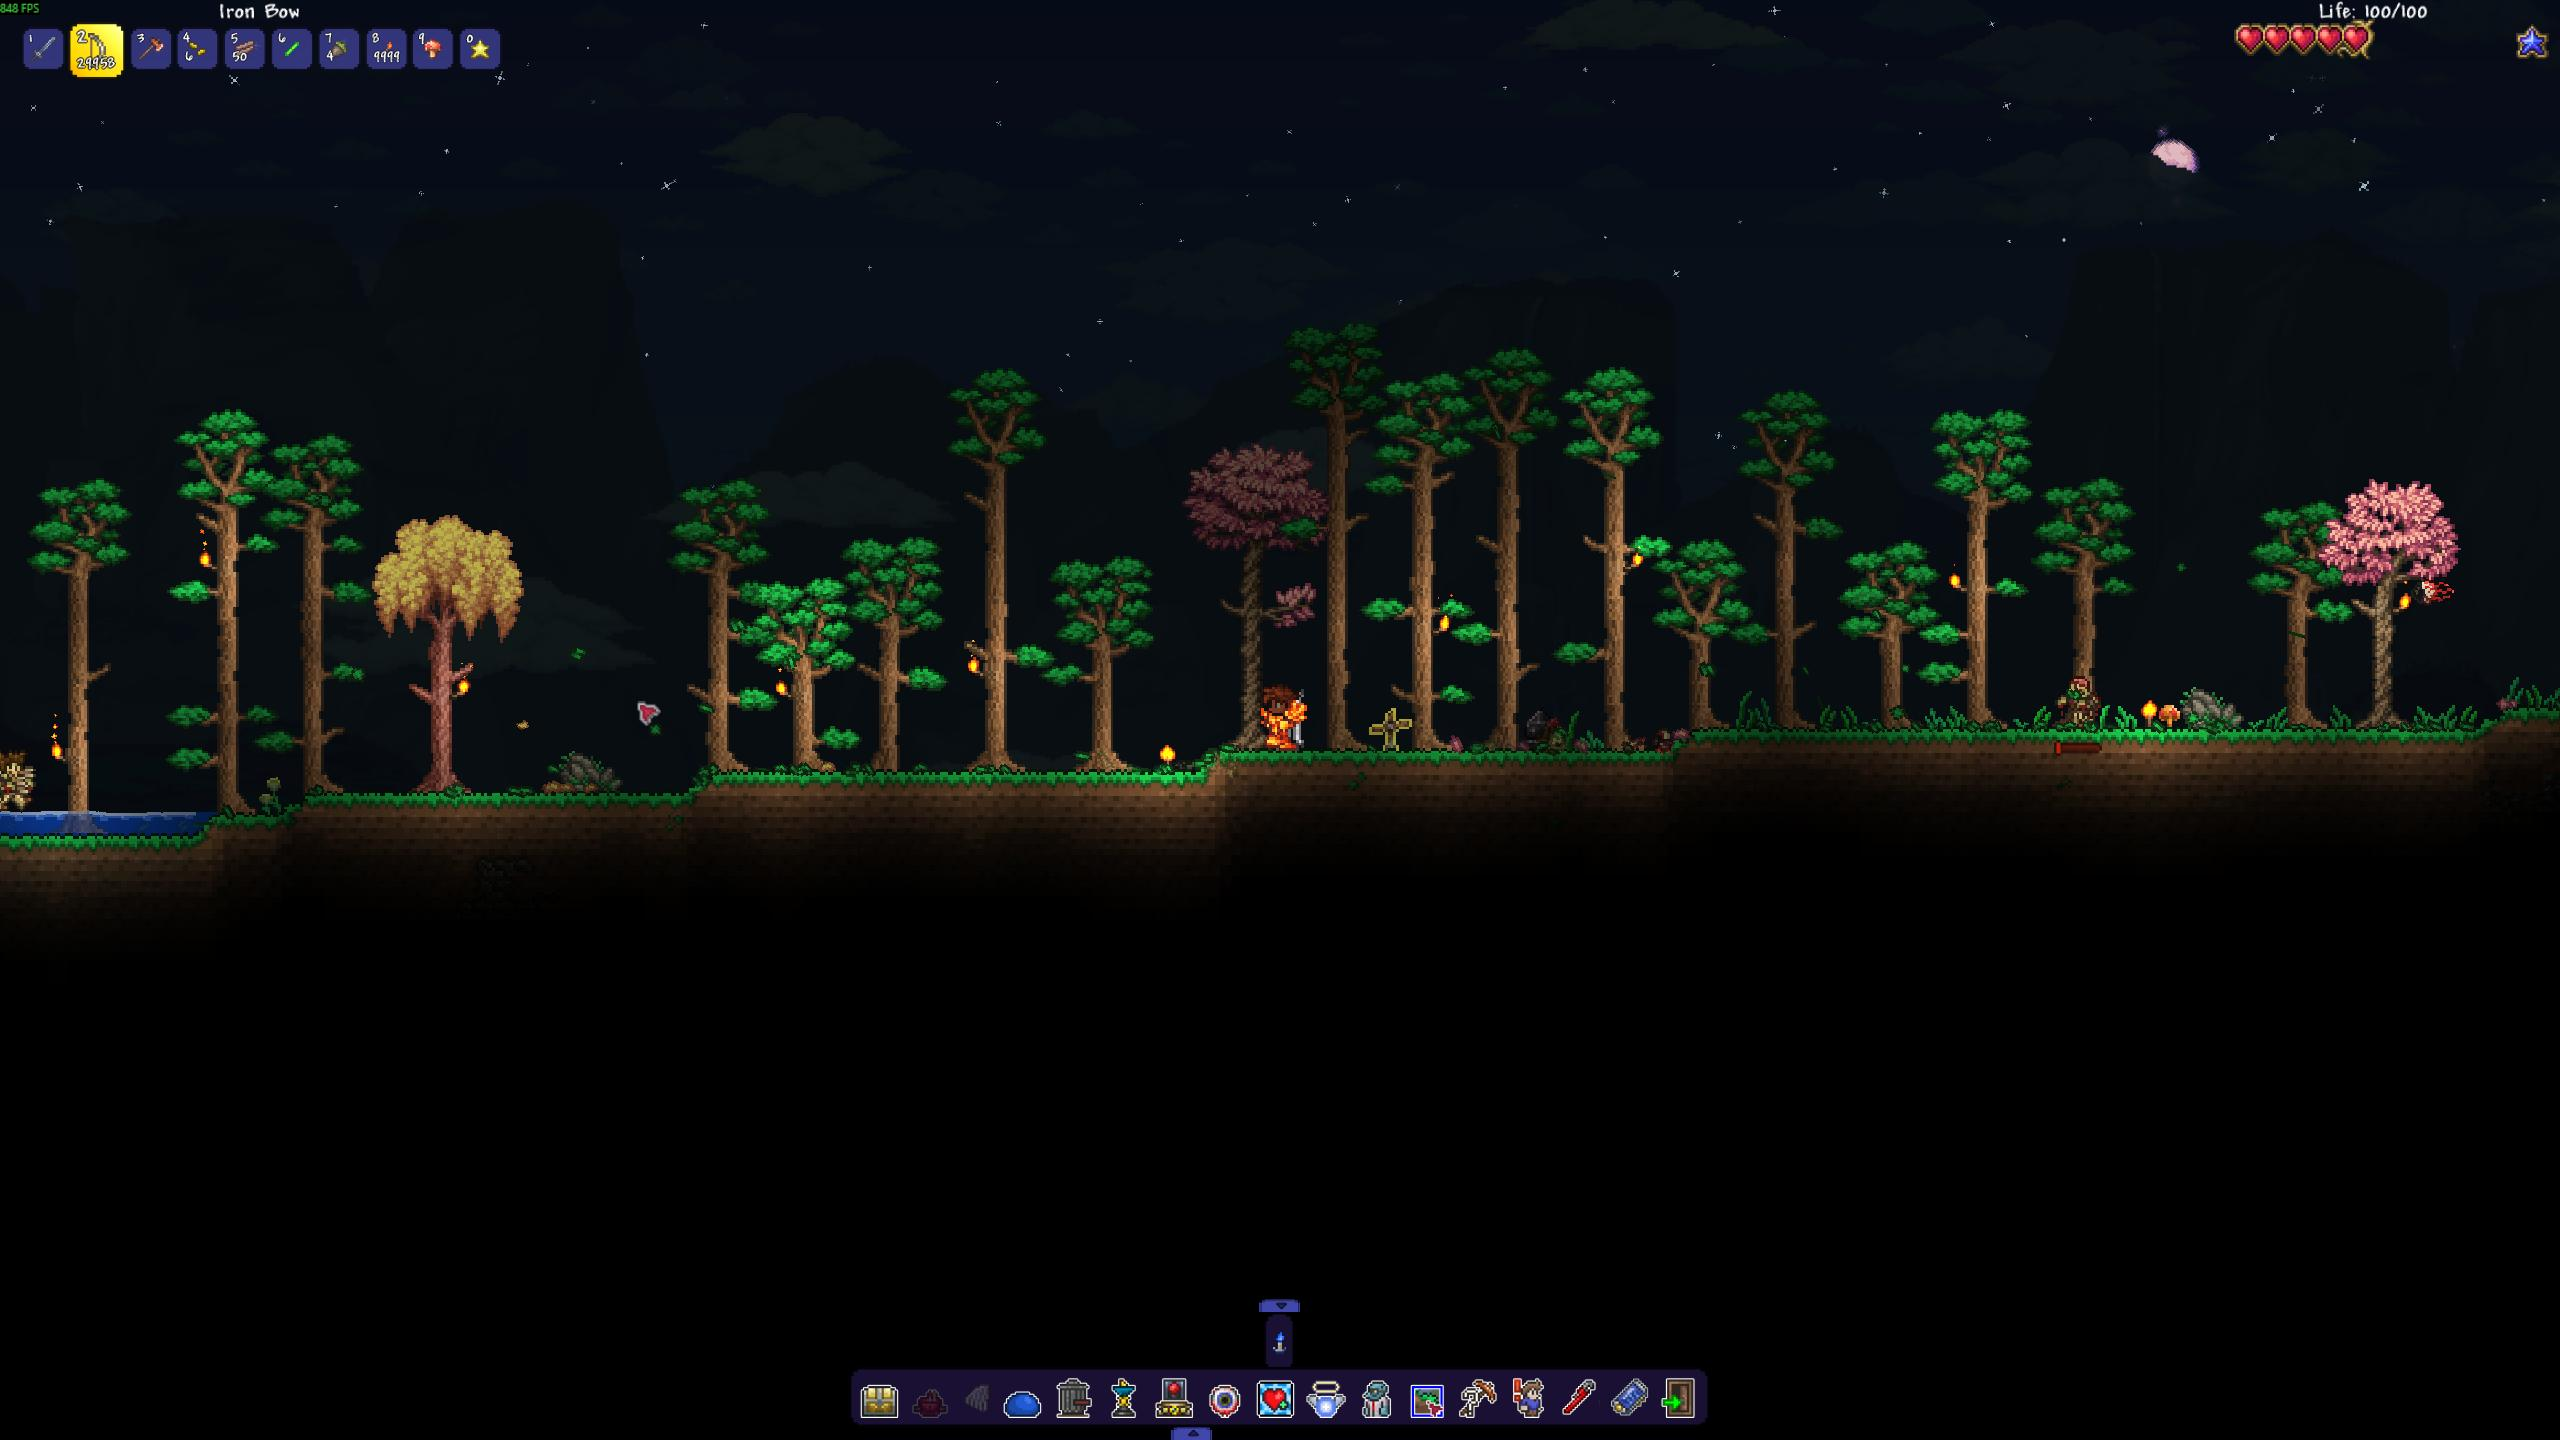Demon Eye: (2407, 575, 2460, 608)
Zombie: (2052, 672, 2106, 735), (0, 740, 40, 811)
